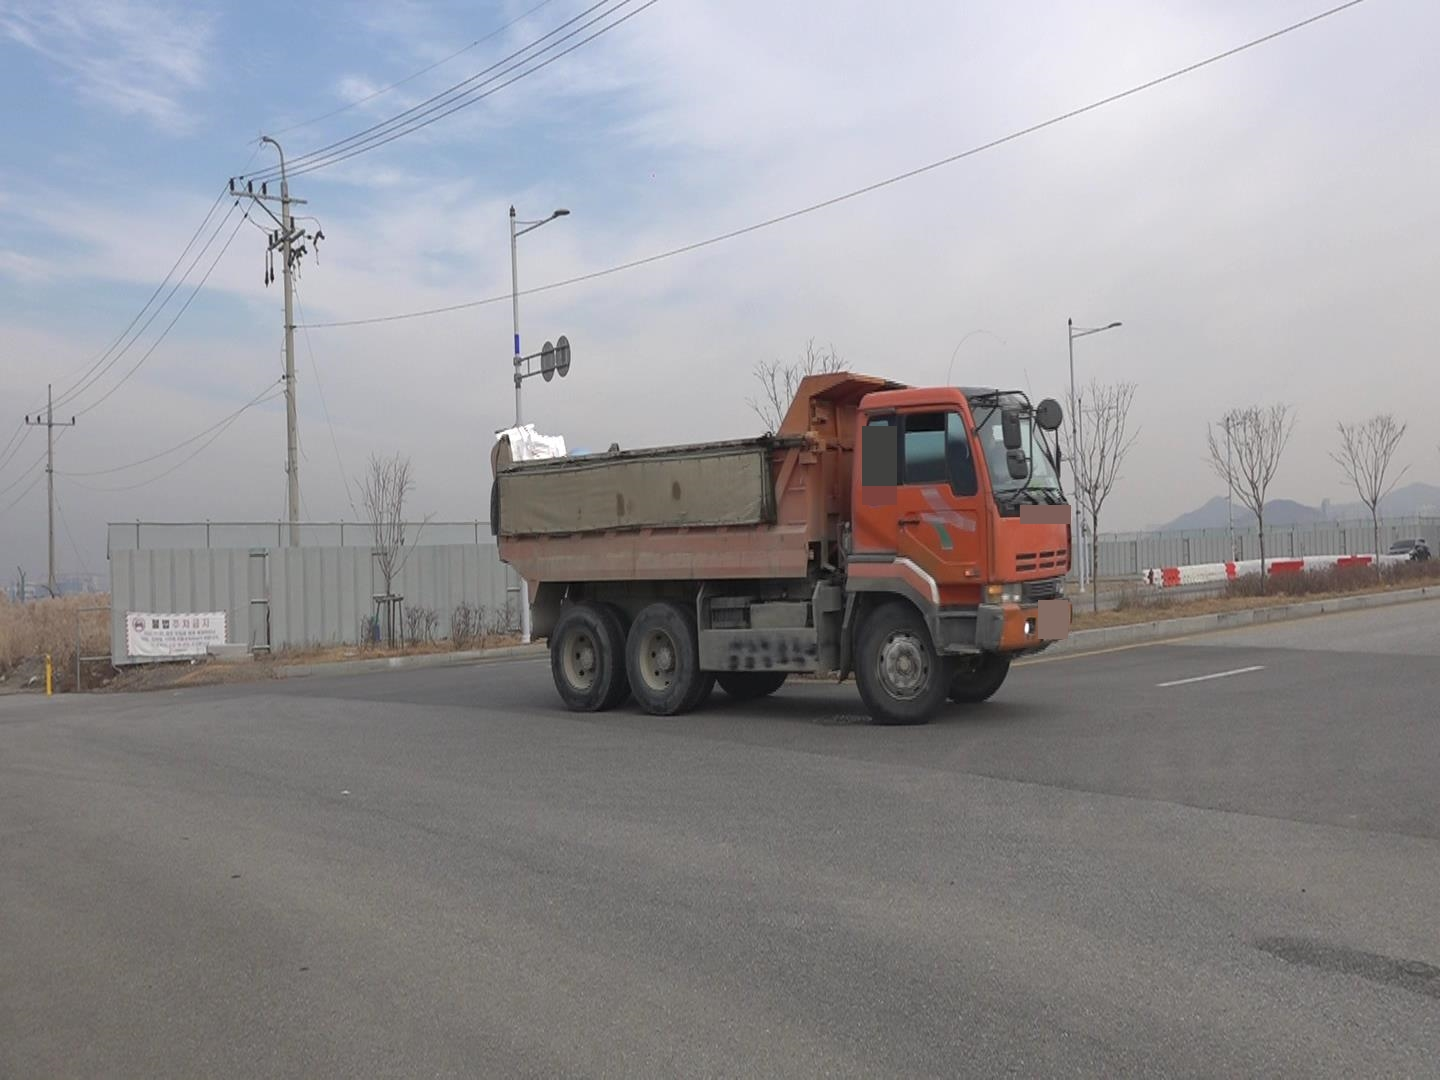불법차량: (491, 371, 1071, 725)
